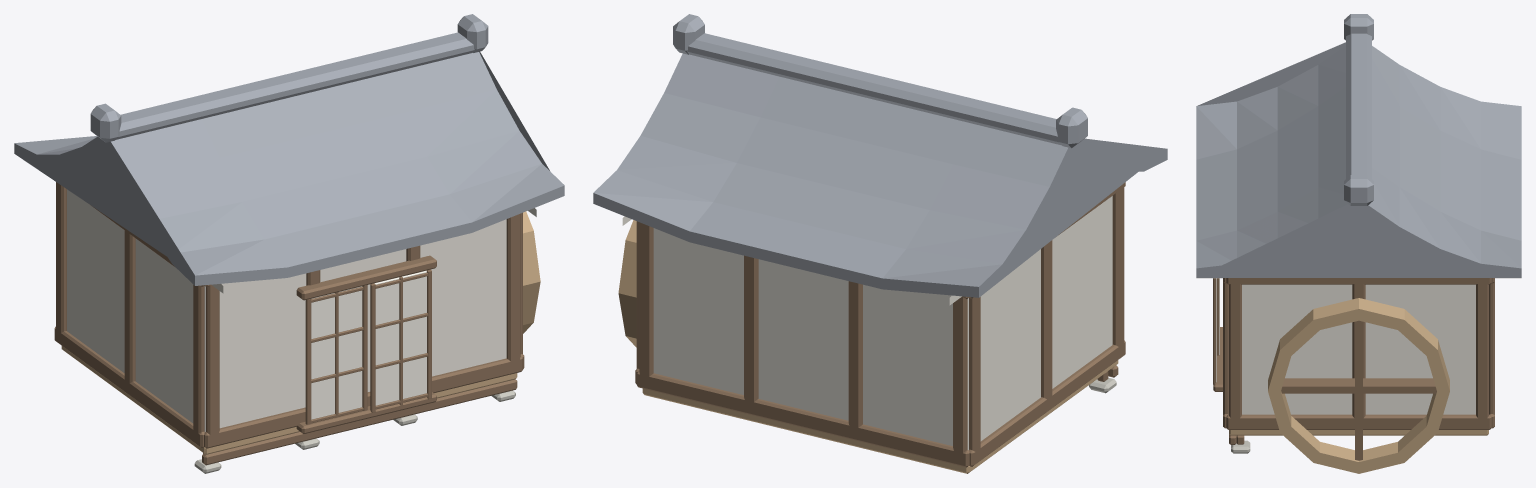
File: feudal-japan-castle-town-village-mill-d3323c81__26289.glb
The picture shows the model from 3 angles, left to right: view 1: azimuth 30°, elevation 25°; view 2: azimuth 150°, elevation 25°; view 3: azimuth 270°, elevation 25°; orthographic projection. The views are drawn at different scales.
Visible parts, largest first — view 1: village-mill; view 2: village-mill; view 3: village-mill.
Part boxes in pixels (x1,y1,x2,y2): village-mill: (14,14,564,473); village-mill: (593,14,1167,473); village-mill: (1196,14,1521,473).
Bounding box in the file's own units: 6.3 × 4.91 × 5.
